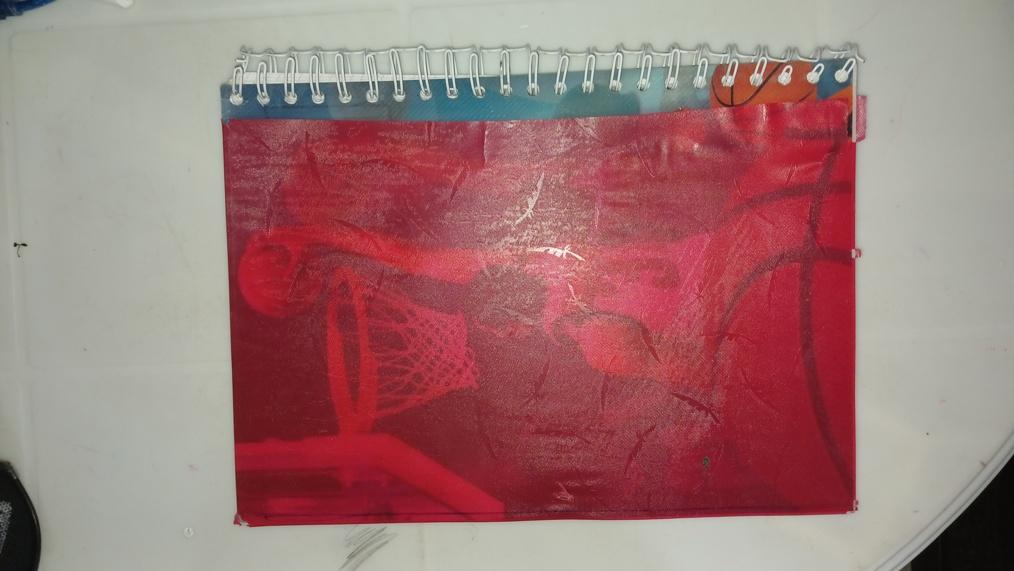notebook: (221, 46, 858, 523)
